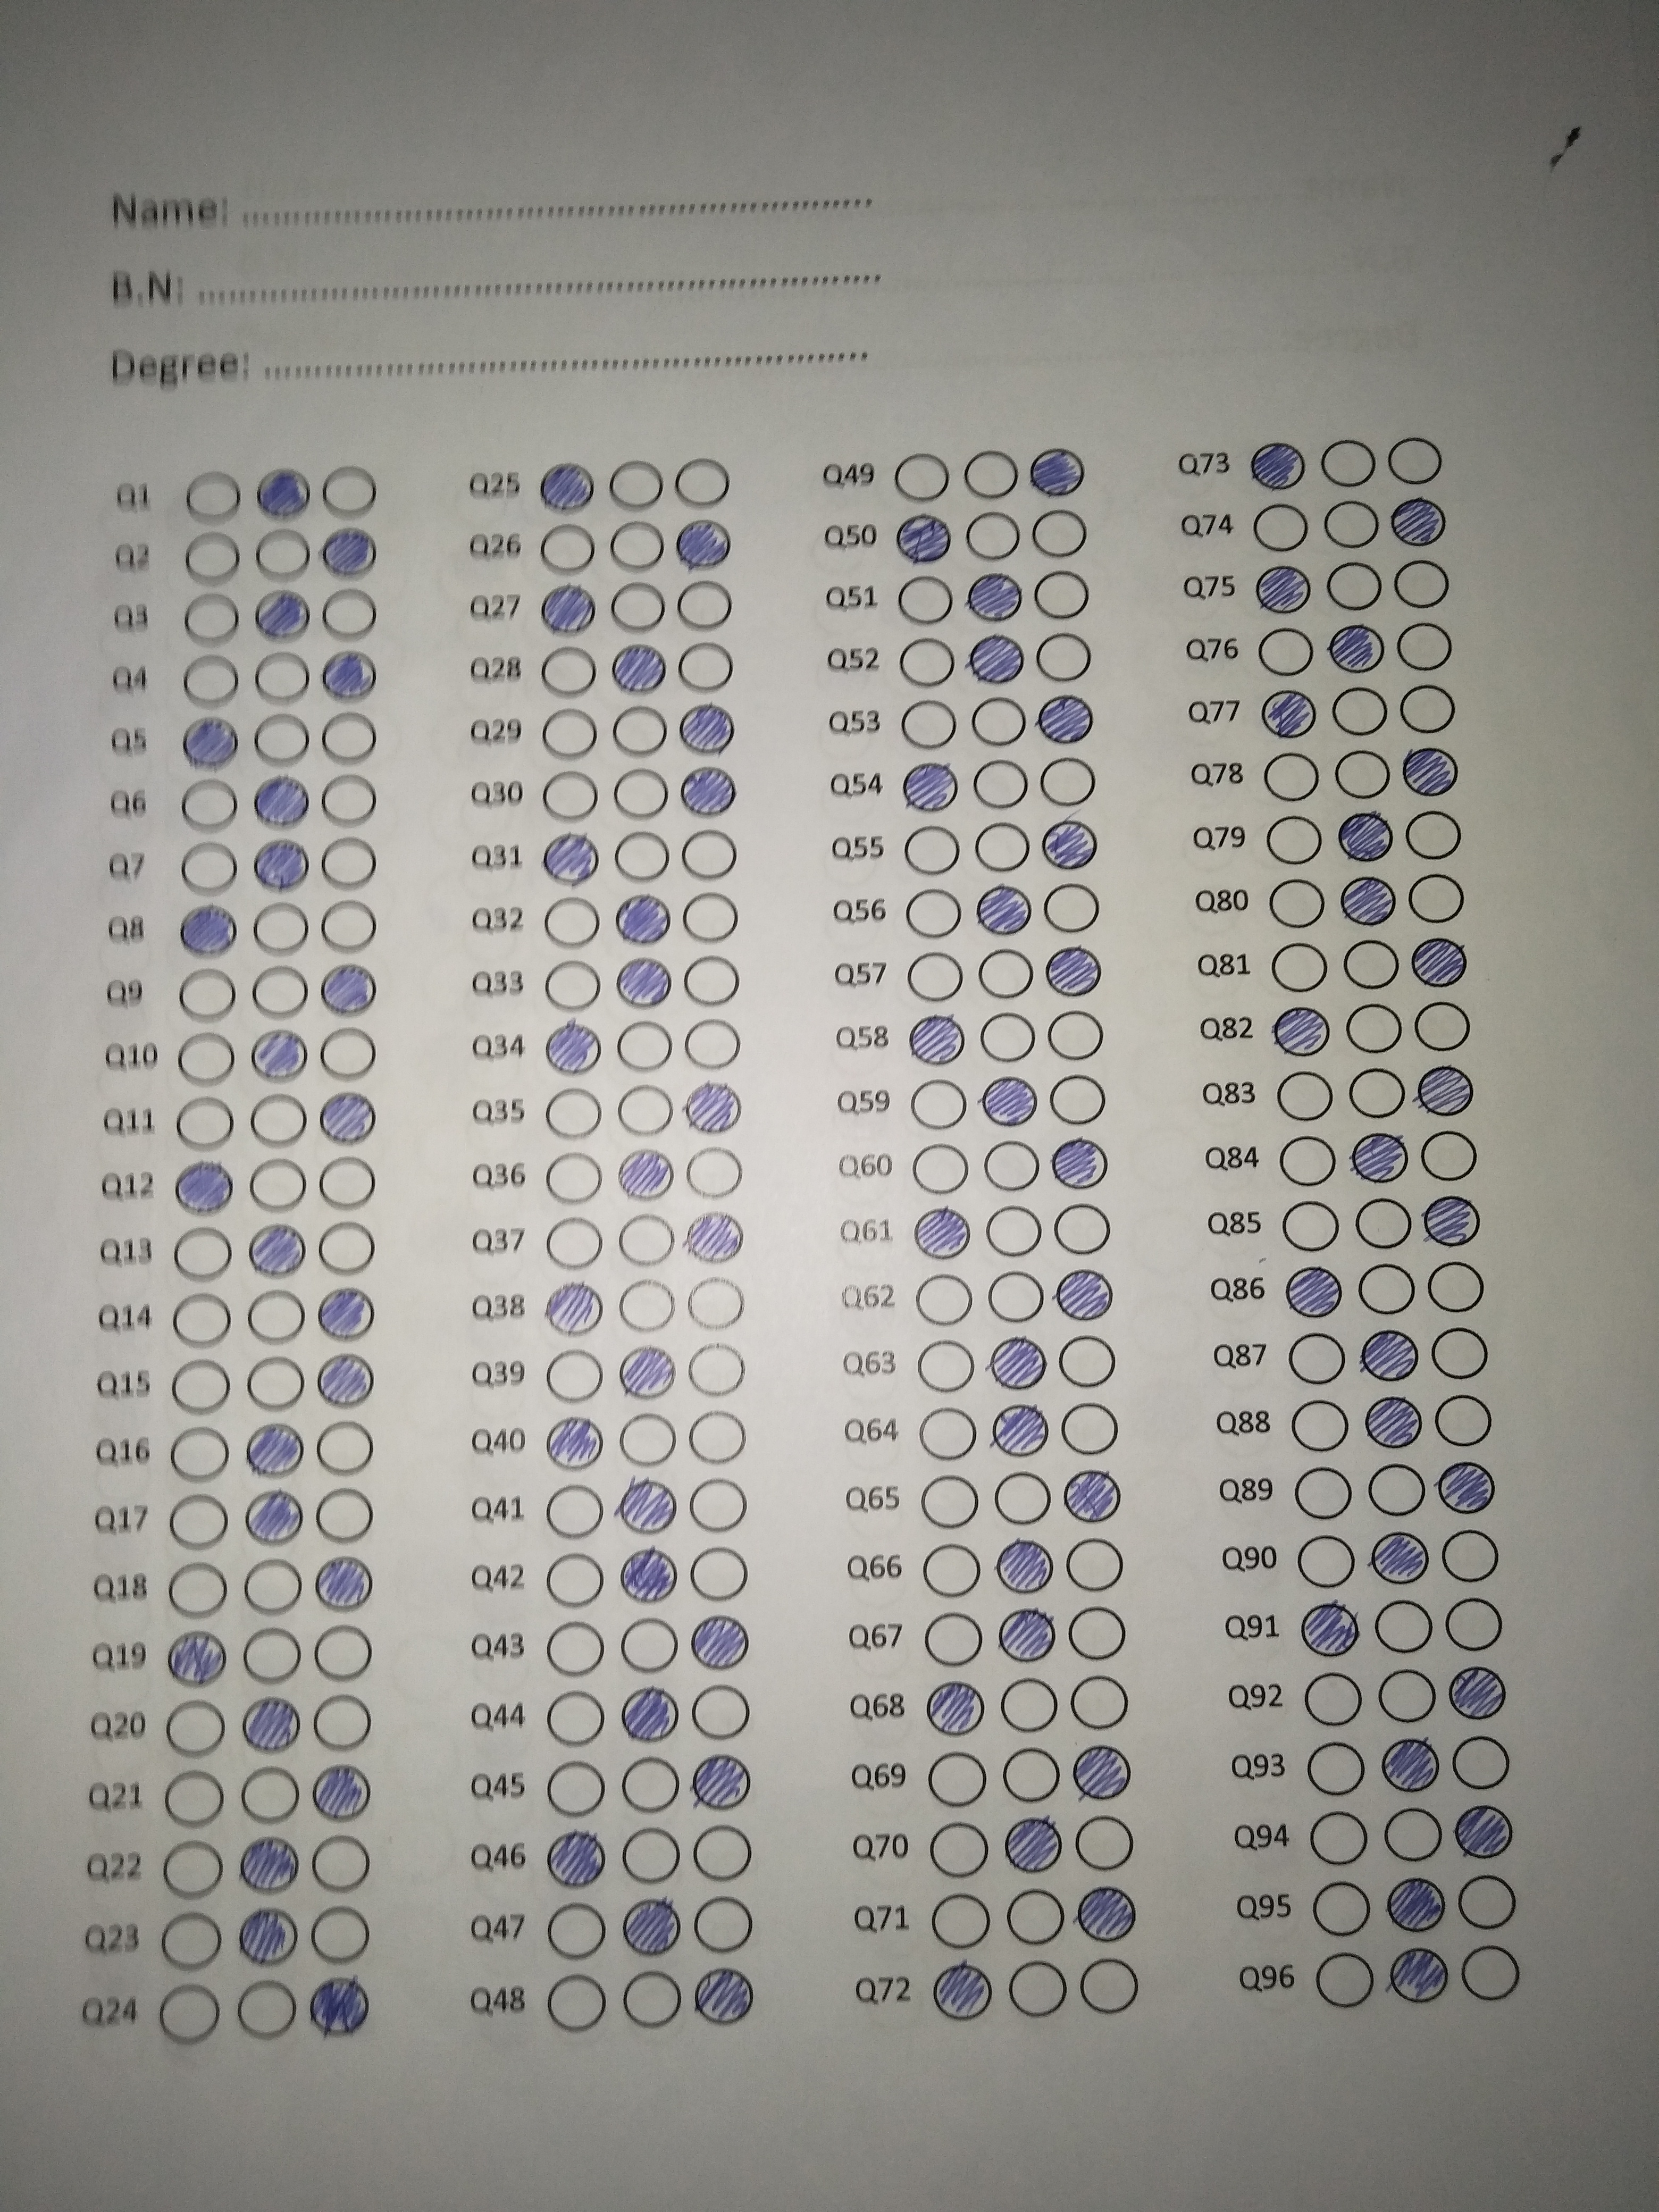not-c: (232, 1980, 298, 2043), (1073, 1813, 1138, 1876), (155, 1984, 221, 2043), (183, 469, 244, 526), (317, 463, 378, 521), (181, 529, 242, 587), (178, 651, 239, 709), (317, 709, 378, 766), (676, 639, 737, 697), (610, 707, 671, 765), (540, 766, 601, 824), (314, 897, 375, 954), (253, 899, 314, 956), (174, 1092, 235, 1150), (251, 1090, 312, 1148), (247, 1157, 308, 1214), (683, 951, 744, 1008), (619, 1078, 680, 1136), (545, 1085, 606, 1143), (613, 1216, 674, 1273), (542, 1211, 603, 1268), (617, 1277, 678, 1334), (544, 1486, 605, 1543), (688, 1548, 749, 1606), (544, 1620, 605, 1677), (544, 1688, 605, 1745), (317, 1219, 378, 1277), (174, 1224, 235, 1282), (173, 1292, 234, 1350), (247, 1291, 308, 1348), (169, 1359, 230, 1416), (169, 1426, 230, 1484), (314, 1487, 375, 1545), (244, 1559, 305, 1616), (315, 1623, 376, 1681), (242, 1629, 303, 1686), (166, 1700, 227, 1757), (166, 1773, 227, 1831), (162, 1839, 223, 1897), (308, 1836, 369, 1893), (310, 1905, 371, 1963), (688, 1824, 749, 1881), (690, 1895, 751, 1952), (545, 1904, 606, 1961), (622, 1972, 683, 2029), (1006, 1961, 1066, 2019), (1080, 1958, 1141, 2015), (1068, 1676, 1129, 1733), (1000, 1676, 1061, 1733), (922, 1611, 983, 1669), (1065, 1606, 1126, 1663), (1061, 1538, 1122, 1595), (918, 1475, 979, 1533), (983, 1268, 1044, 1325), (1460, 1944, 1521, 2001), (1312, 1808, 1373, 1865), (1380, 1804, 1441, 1862), (1453, 1735, 1514, 1792), (1305, 1672, 1366, 1730), (1375, 1599, 1436, 1656), (1438, 1524, 1499, 1581), (1297, 1531, 1358, 1588), (1429, 1324, 1490, 1381), (1288, 1329, 1349, 1386), (1425, 1261, 1486, 1318), (1279, 1197, 1340, 1254), (1277, 1132, 1338, 1190), (1413, 1000, 1474, 1057), (1405, 869, 1466, 927), (1342, 935, 1403, 993), (1267, 939, 1328, 996), (917, 1338, 978, 1395), (1056, 1329, 1117, 1386), (1046, 1007, 1107, 1064), (978, 1007, 1039, 1064), (903, 949, 964, 1007), (1039, 752, 1100, 810), (967, 691, 1028, 749), (903, 695, 964, 752), (1035, 631, 1096, 688), (899, 634, 960, 691), (964, 507, 1025, 564), (892, 446, 953, 503), (1382, 428, 1443, 486), (1316, 434, 1377, 491), (1249, 498, 1310, 556), (1321, 498, 1382, 556), (1392, 556, 1453, 613), (1324, 559, 1385, 617), (1255, 618, 1316, 676), (1399, 679, 1460, 737), (179, 592, 239, 650), (603, 516, 662, 573), (680, 578, 739, 636), (537, 646, 596, 704), (537, 704, 596, 761), (178, 841, 237, 899), (321, 834, 380, 892), (179, 967, 239, 1024), (685, 1275, 744, 1332), (547, 1350, 606, 1407), (617, 1413, 676, 1470), (692, 1683, 751, 1740), (167, 1559, 227, 1616), (934, 1893, 993, 1951), (1060, 1404, 1119, 1461), (1446, 1595, 1506, 1653), (1265, 812, 1324, 869), (1333, 744, 1392, 801), (981, 1198, 1040, 1256), (911, 1080, 971, 1137), (1039, 881, 1098, 939), (969, 819, 1028, 876), (969, 754, 1028, 812), (1032, 507, 1091, 564), (253, 528, 314, 583), (322, 585, 383, 641), (247, 648, 308, 704), (249, 711, 310, 766), (605, 460, 666, 516), (667, 456, 728, 512), (533, 521, 594, 577), (608, 577, 669, 632), (608, 766, 669, 822), (613, 826, 674, 881), (680, 890, 741, 946), (545, 897, 606, 953), (179, 780, 240, 836), (319, 1028, 380, 1083), (178, 1031, 239, 1087), (319, 1155, 380, 1211), (544, 961, 605, 1017), (544, 1151, 605, 1207), (683, 1341, 744, 1397), (683, 1407, 744, 1463), (544, 1550, 605, 1606), (619, 1620, 680, 1676), (169, 1496, 230, 1552), (314, 1695, 375, 1750), (549, 1761, 610, 1817), (619, 1829, 680, 1885), (547, 1977, 608, 2033), (1009, 1888, 1070, 1944), (929, 1824, 990, 1879), (1004, 1750, 1065, 1806), (918, 1543, 979, 1599), (1051, 1198, 1112, 1254), (1312, 1952, 1373, 2008), (1457, 1878, 1518, 1933), (1312, 1881, 1373, 1937), (1307, 1742, 1368, 1797), (1375, 1670, 1436, 1726), (1295, 1467, 1356, 1522), (1368, 1463, 1429, 1519), (1431, 1392, 1492, 1447), (1290, 1397, 1351, 1453), (1358, 1259, 1419, 1315), (1354, 1193, 1415, 1249), (1420, 1130, 1481, 1186), (1272, 1069, 1333, 1125), (1345, 1001, 1406, 1057), (1269, 878, 1330, 934), (1258, 751, 1319, 806), (995, 1470, 1056, 1526), (920, 1406, 981, 1461), (1049, 1071, 1110, 1127), (976, 944, 1037, 1000), (901, 888, 962, 944), (901, 824, 962, 880), (896, 573, 957, 629), (1035, 570, 1096, 625), (962, 448, 1023, 503), (1392, 618, 1453, 674), (681, 827, 741, 883), (315, 775, 375, 831), (253, 965, 312, 1021), (612, 1015, 671, 1071), (685, 1015, 744, 1071), (688, 1148, 748, 1204), (688, 1479, 748, 1534), (247, 1355, 307, 1411), (315, 1421, 375, 1477), (242, 1768, 301, 1824), (160, 1914, 220, 1970), (624, 1756, 683, 1811), (927, 1749, 986, 1804), (1345, 1061, 1405, 1116), (1405, 808, 1464, 864), (915, 1273, 974, 1329), (981, 1136, 1040, 1191), (911, 1141, 971, 1197), (1328, 681, 1387, 737)
taken-c: (685, 1754, 751, 1817), (617, 1679, 681, 1742), (1002, 1817, 1066, 1879), (164, 1629, 228, 1691), (990, 1400, 1054, 1463), (1436, 1458, 1500, 1521), (1068, 1745, 1134, 1806), (1073, 1886, 1140, 1947), (1450, 1803, 1516, 1864), (1382, 1876, 1448, 1937), (235, 1836, 301, 1897), (167, 1158, 234, 1219), (312, 1284, 378, 1345), (312, 1353, 378, 1414), (922, 1681, 988, 1742), (1363, 1393, 1429, 1454), (690, 1963, 755, 2024), (619, 1900, 683, 1961), (544, 1829, 608, 1890), (929, 1961, 993, 2022), (1384, 1735, 1448, 1796), (1385, 1944, 1450, 2005), (307, 1975, 371, 2036), (234, 1907, 298, 1968), (310, 1763, 375, 1824), (237, 1696, 301, 1757), (619, 1547, 683, 1608), (687, 1611, 751, 1672), (1054, 1264, 1119, 1325), (985, 1332, 1049, 1393), (1419, 1191, 1483, 1252), (244, 1223, 308, 1284), (242, 1421, 307, 1482), (240, 1486, 305, 1547), (312, 1554, 376, 1615), (1061, 1468, 1126, 1529), (992, 1536, 1056, 1597), (995, 1604, 1060, 1665), (1281, 1261, 1345, 1322), (1356, 1329, 1420, 1390), (1368, 1527, 1432, 1588), (1298, 1601, 1363, 1662), (1446, 1665, 1511, 1726), (683, 1078, 744, 1139), (176, 902, 237, 963), (542, 1414, 603, 1474), (619, 1343, 680, 1402), (544, 1280, 605, 1339), (683, 1209, 744, 1268), (617, 1148, 678, 1207), (1410, 934, 1471, 993), (1417, 1062, 1478, 1122), (1351, 1130, 1412, 1190), (317, 960, 378, 1019), (249, 1026, 310, 1085), (910, 1204, 971, 1263), (617, 1475, 678, 1534), (1270, 1003, 1333, 1061), (981, 1069, 1040, 1129), (1049, 1136, 1108, 1195), (317, 1089, 376, 1148), (535, 460, 596, 517), (673, 516, 734, 573), (678, 765, 739, 822), (612, 892, 673, 949), (542, 1021, 603, 1078), (1387, 491, 1448, 549), (1253, 561, 1314, 618), (1326, 620, 1387, 678), (1042, 944, 1103, 1001), (972, 881, 1033, 939), (897, 759, 958, 817), (965, 568, 1026, 625), (892, 509, 953, 566), (1037, 819, 1096, 876), (906, 1012, 967, 1068), (1028, 446, 1089, 502), (538, 583, 599, 639), (608, 641, 669, 697), (674, 700, 735, 756), (540, 831, 601, 887), (254, 465, 315, 521), (319, 524, 380, 580), (249, 587, 310, 643), (319, 648, 380, 704), (179, 716, 240, 772), (253, 773, 314, 829), (249, 838, 310, 894), (1248, 439, 1309, 495), (1256, 686, 1317, 742), (1399, 744, 1460, 799), (1331, 808, 1392, 864), (1338, 874, 1399, 930), (1035, 691, 1096, 747), (965, 631, 1026, 686), (613, 956, 673, 1012)
